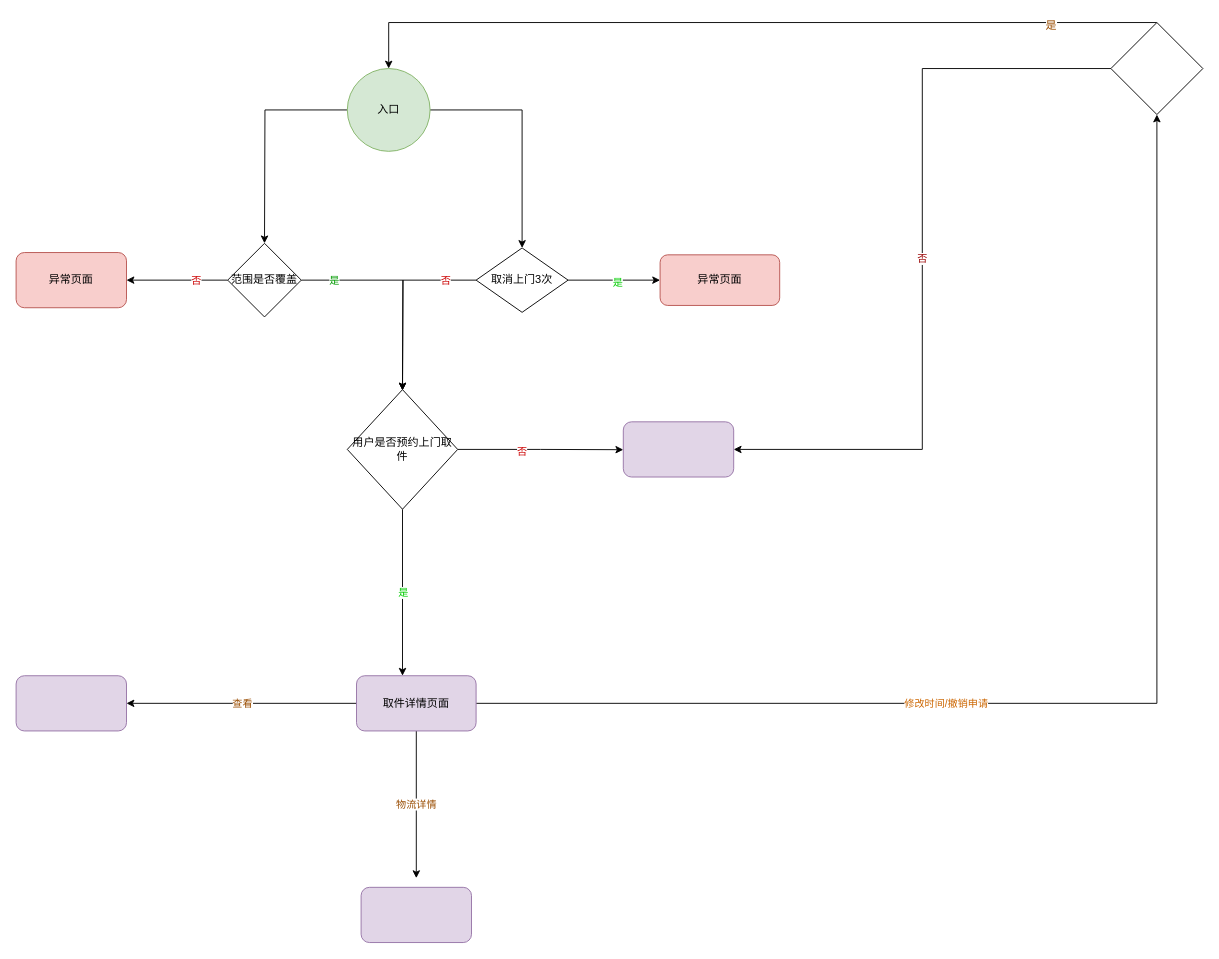
Some shapes in this 1219 by 959 pixel diagram are drawn without their labels. The shapes that lost their labels are listed below. From the top down, each one's box as (x1, y1, x2, y2) in pixels, then its label:
(1110, 22, 1203, 115): 弹窗提示,是否修改3 次
(622, 421, 734, 477): 预约取件页面
(15, 675, 126, 731): 运费险页面
(360, 886, 472, 943): 物流详情页面
